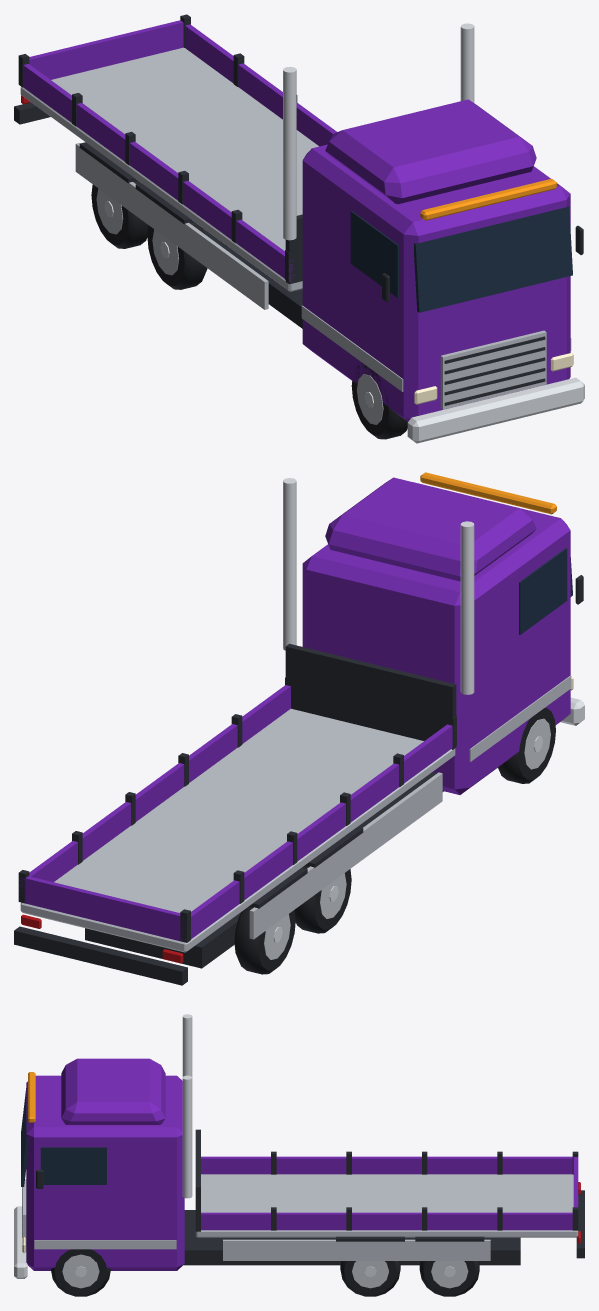
The model's file is truck_super.glb.
3 views of the same model, one above another, from view 1: azimuth 30°, elevation 25°; view 2: azimuth 150°, elevation 25°; view 3: azimuth 270°, elevation 25° (orthographic). The views are drawn at different scales.
Parts seen in each view (by area): view 1: body, wheel_FR, wheel_MR, wheel_RR; view 2: body, wheel_RR, wheel_FR, wheel_MR; view 3: body, wheel_FL, wheel_ML, wheel_RL.
Part boxes in pixels (left/top/right/bottom): body: left=14, top=14, right=584, bottom=443; wheel_FR: left=351, top=363, right=407, bottom=439; wheel_MR: left=147, top=222, right=207, bottom=289; wheel_RR: left=91, top=181, right=148, bottom=248; body: left=14, top=472, right=584, bottom=985; wheel_RR: left=234, top=906, right=295, bottom=974; wheel_FR: left=498, top=708, right=555, bottom=783; wheel_MR: left=294, top=865, right=351, bottom=933; body: left=14, top=1014, right=584, bottom=1278; wheel_FL: left=51, top=1249, right=110, bottom=1296; wheel_ML: left=340, top=1261, right=400, bottom=1296; wheel_RL: left=419, top=1261, right=479, bottom=1296.
Bounding box in the file's own units: 2.96 × 4.49 × 10.45.
